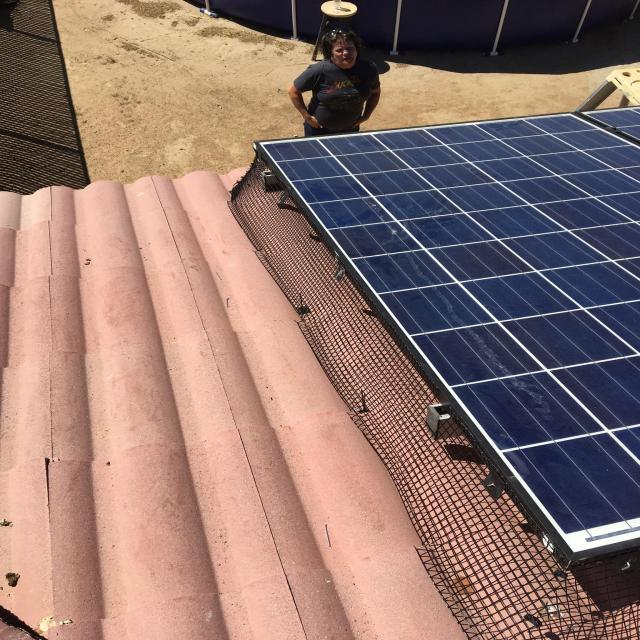clean-solar-panel: (256, 114, 638, 560)
